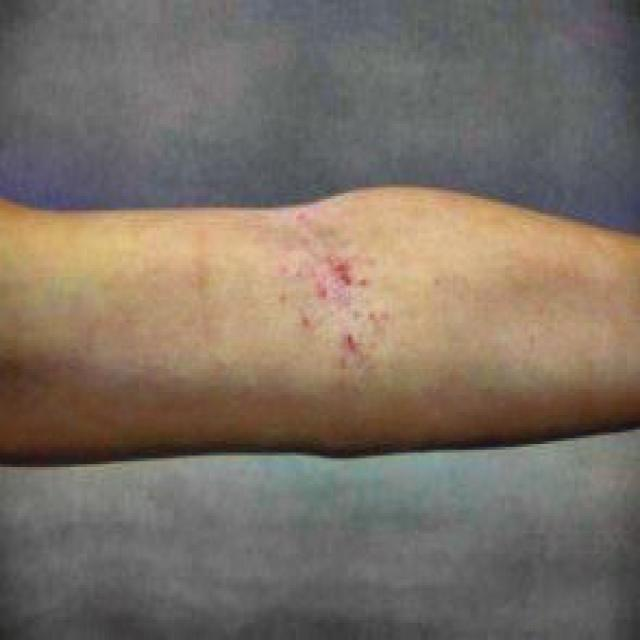Eczema: (258, 205, 423, 400)
